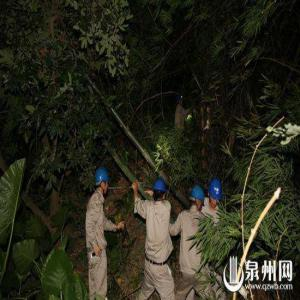blue: (208, 178, 223, 208), (190, 186, 206, 214), (95, 167, 110, 195), (153, 179, 167, 203)
